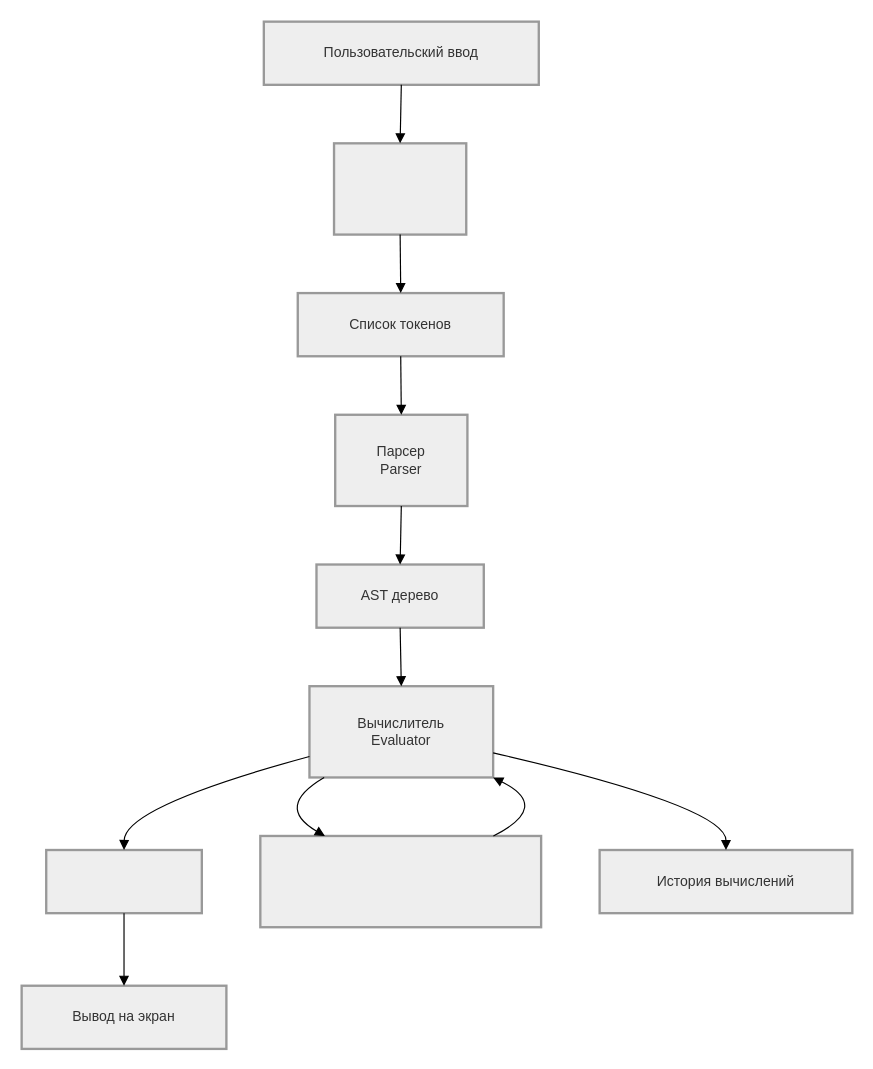
This 873x1069 diagram has some shape labels left out. Here are the shapes that lost their labels. From the top down, the box of each, then its label:
(332, 142, 467, 235): Лексер Lexer
(44, 848, 202, 914): Результат
(259, 834, 542, 928): Хранилище переменных VariableStorage
